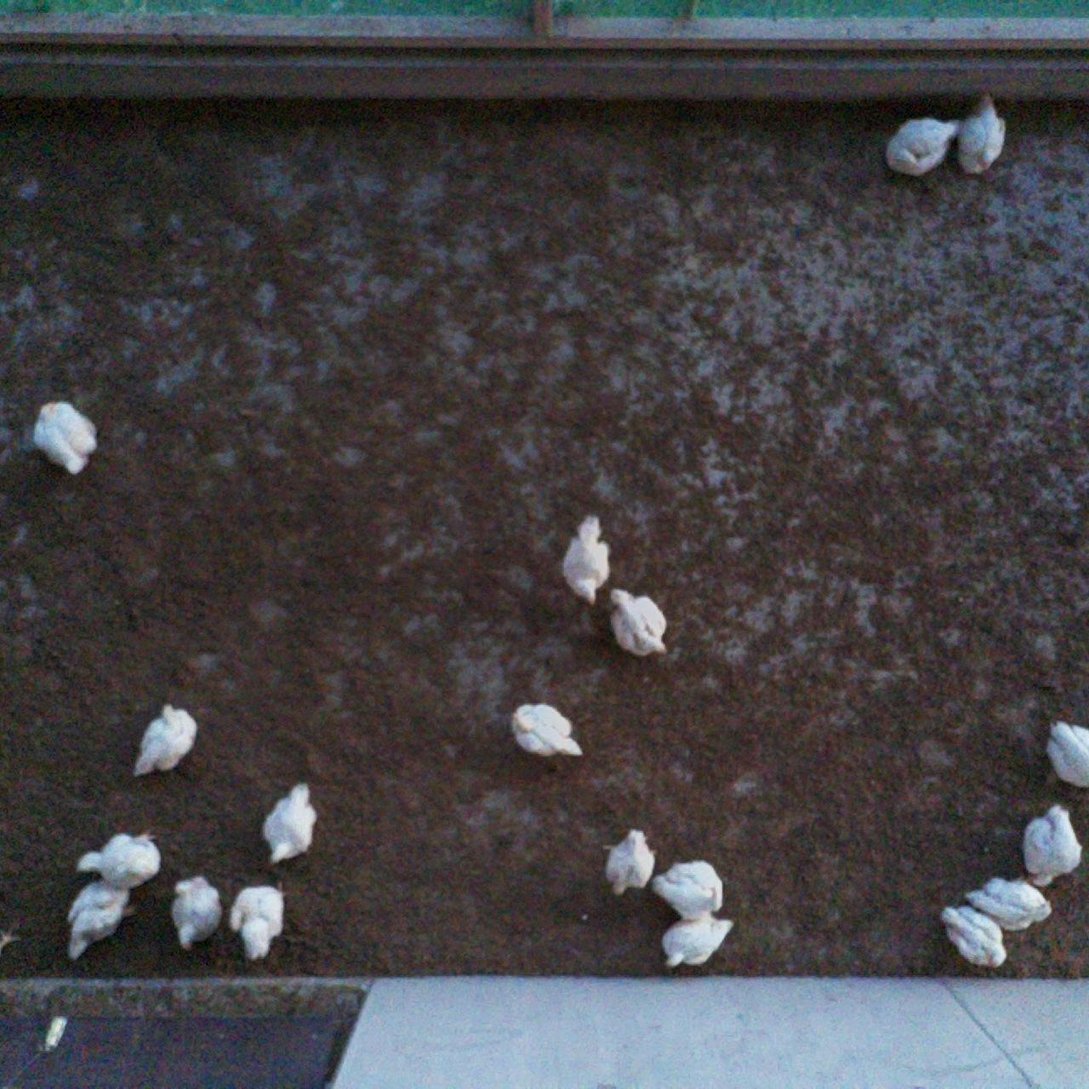chicken: (61, 873, 141, 964), (957, 869, 1055, 935), (71, 824, 167, 891), (127, 697, 202, 781), (881, 111, 965, 183), (257, 775, 322, 868), (557, 509, 617, 609), (30, 392, 101, 474), (1019, 800, 1085, 888), (503, 698, 589, 764), (227, 876, 293, 961), (606, 583, 675, 664), (953, 89, 1014, 180), (938, 900, 1011, 973), (648, 854, 727, 920), (598, 824, 661, 906), (655, 913, 739, 974), (168, 872, 228, 955), (1039, 712, 1089, 794)
